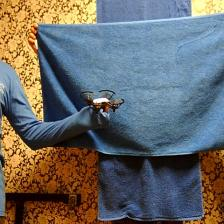drone: (80, 89, 126, 115)
